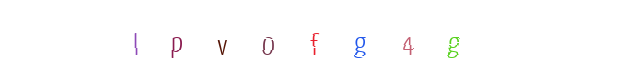0: (270, 0, 350, 80)
4: (413, 0, 493, 80)
F: (274, 0, 354, 80)
G: (320, 0, 400, 80), (413, 0, 493, 80)
L: (182, 0, 262, 80)
P: (226, 0, 306, 80)
V: (239, 0, 319, 80)
